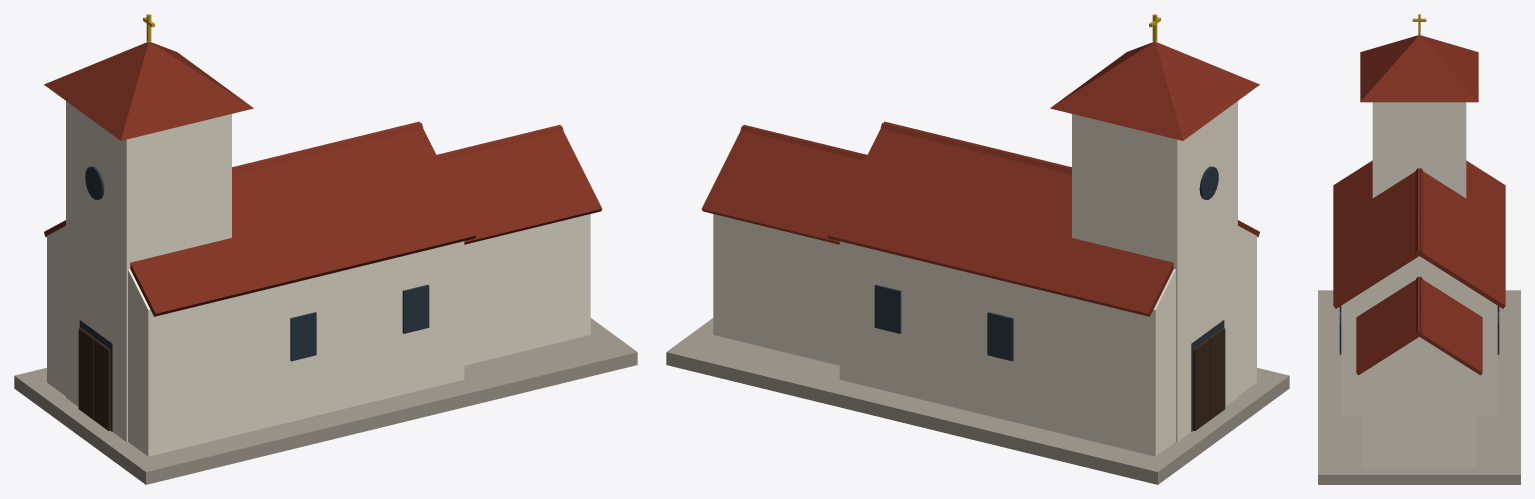
The model's file is cerkev-sv-vida.glb.
3 views of the same model, side by side, from view 1: azimuth 30°, elevation 25°; view 2: azimuth 150°, elevation 25°; view 3: azimuth 270°, elevation 25° (orthographic). The views are drawn at different scales.
Visible parts, largest first — view 1: stene-ladje, streha-ladje-jug, trup-zvonika, ploscad, stene-prezbiterija, streha-prezbiterija-jug, streha-zvonika, portal-list-desni, streha-ladje-sever, portal-list-levi, okno-ladja-jug-2, okno-ladja-jug-1 (+1 smaller); view 2: stene-ladje, streha-ladje-sever, trup-zvonika, ploscad, stene-prezbiterija, streha-prezbiterija-sever, streha-zvonika, portal-list-levi, streha-ladje-jug, portal-list-desni, okno-ladja-sever-2, okno-ladja-sever-1 (+1 smaller); view 3: ploscad, stene-prezbiterija, streha-ladje-jug, streha-ladje-sever, trup-zvonika, streha-zvonika, stene-ladje, streha-prezbiterija-jug, streha-prezbiterija-sever, zatrep-ladje, zatrep-prezbiterija.
Boxes of the visible parts, left/top/right/bottom form: stene-ladje: left=47, top=236, right=464, bottom=456; streha-ladje-jug: left=130, top=121, right=476, bottom=316; trup-zvonika: left=66, top=101, right=231, bottom=441; ploscad: left=14, top=318, right=637, bottom=484; stene-prezbiterija: left=464, top=214, right=590, bottom=365; streha-prezbiterija-jug: left=436, top=125, right=602, bottom=244; streha-zvonika: left=44, top=42, right=253, bottom=140; portal-list-desni: left=94, top=339, right=110, bottom=430; streha-ladje-sever: left=44, top=123, right=423, bottom=237; portal-list-levi: left=78, top=328, right=95, bottom=419; okno-ladja-jug-2: left=402, top=284, right=429, bottom=333; okno-ladja-jug-1: left=290, top=312, right=316, bottom=361; stene-ladje: left=839, top=236, right=1256, bottom=456; streha-ladje-sever: left=827, top=121, right=1173, bottom=316; trup-zvonika: left=1072, top=101, right=1237, bottom=441; ploscad: left=666, top=318, right=1289, bottom=484; stene-prezbiterija: left=713, top=214, right=839, bottom=365; streha-prezbiterija-sever: left=701, top=125, right=867, bottom=244; streha-zvonika: left=1050, top=42, right=1259, bottom=140; portal-list-levi: left=1193, top=339, right=1209, bottom=430; streha-ladje-jug: left=880, top=123, right=1259, bottom=237; portal-list-desni: left=1208, top=328, right=1225, bottom=419; okno-ladja-sever-2: left=874, top=284, right=901, bottom=333; okno-ladja-sever-1: left=987, top=312, right=1013, bottom=361; ploscad: left=1318, top=290, right=1520, bottom=484; stene-prezbiterija: left=1363, top=369, right=1475, bottom=468; streha-ladje-jug: left=1333, top=160, right=1423, bottom=308; streha-ladje-sever: left=1415, top=160, right=1505, bottom=308; trup-zvonika: left=1372, top=102, right=1466, bottom=198; streha-zvonika: left=1360, top=35, right=1478, bottom=102; stene-ladje: left=1341, top=303, right=1497, bottom=415; streha-prezbiterija-jug: left=1356, top=276, right=1422, bottom=375; streha-prezbiterija-sever: left=1416, top=276, right=1482, bottom=375; zatrep-ladje: left=1346, top=256, right=1492, bottom=302; zatrep-prezbiterija: left=1368, top=337, right=1470, bottom=369.
Size of the model in its own units: 14 by 11.02 by 6.5.
